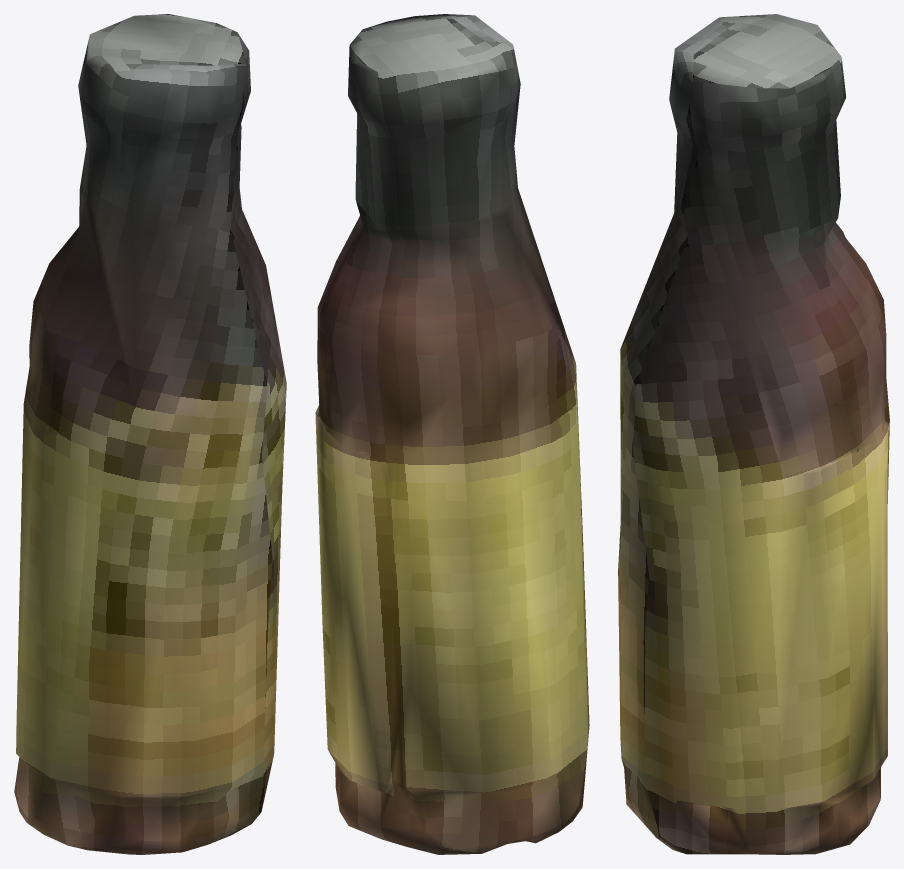
Rendered from Weston_No_33_Signature_Sausage_Tonic_12_fl_oz-low.glb.
The picture shows the model from 3 angles, left to right: view 1: azimuth 30°, elevation 25°; view 2: azimuth 150°, elevation 25°; view 3: azimuth 270°, elevation 25°; orthographic projection. The views are drawn at different scales.
Visible parts, largest first — view 1: Weston_No_33_Signature_Sausage_Tonic_12_fl_oz; view 2: Weston_No_33_Signature_Sausage_Tonic_12_fl_oz; view 3: Weston_No_33_Signature_Sausage_Tonic_12_fl_oz.
Part boxes in pixels (bbox=[...]): Weston_No_33_Signature_Sausage_Tonic_12_fl_oz: bbox=[14, 14, 286, 854]; Weston_No_33_Signature_Sausage_Tonic_12_fl_oz: bbox=[315, 14, 589, 854]; Weston_No_33_Signature_Sausage_Tonic_12_fl_oz: bbox=[618, 14, 889, 854].
Bounding box in the file's own units: 0.064 × 0.1974 × 0.0623.
1 material, 1 textured.
